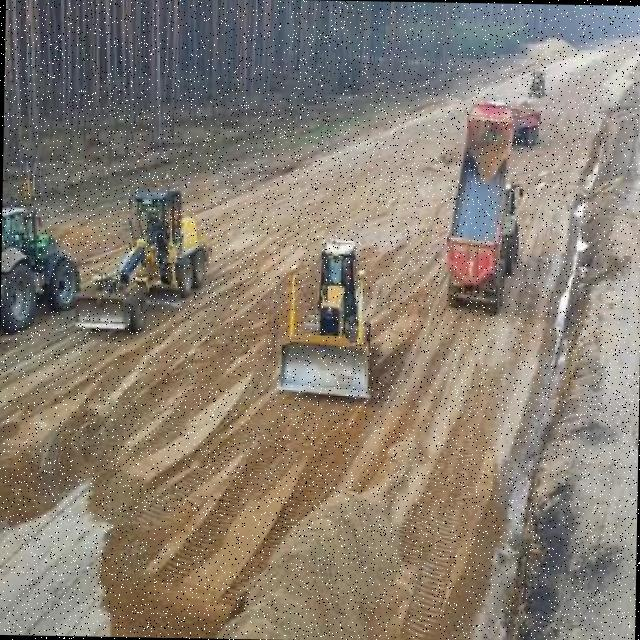Bulldozer: (272, 226, 378, 401)
Dump Truck: (436, 94, 525, 310)
Grader: (76, 182, 212, 354)
